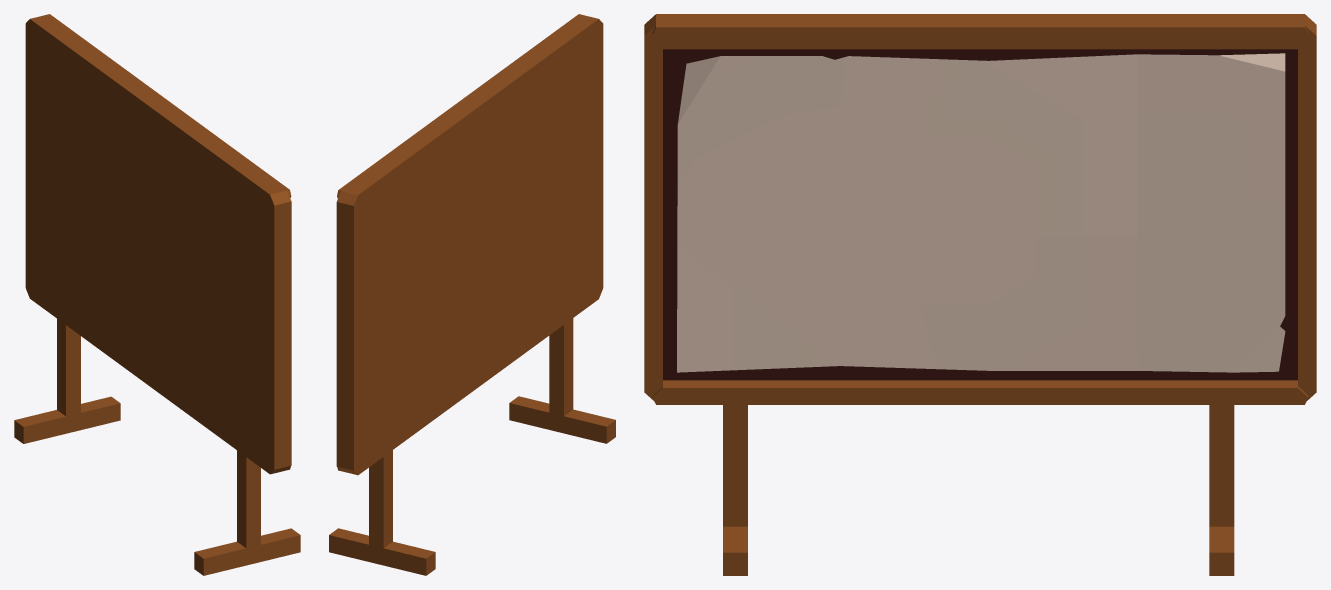
Rendered from BOARD_Empty.fbx.
3 renders of one model, left to right at view 1: azimuth 30°, elevation 25°; view 2: azimuth 150°, elevation 25°; view 3: azimuth 270°, elevation 25°, orthographic. The views are drawn at different scales.
Parts seen in each view (by area): view 1: Board; view 2: Board; view 3: Board.
Boxes of the visible parts, left/top/right/bottom form: Board: left=14, top=14, right=300, bottom=575; Board: left=329, top=14, right=615, bottom=575; Board: left=644, top=14, right=1316, bottom=575.
Bounding box in the file's own units: 199 × 763 × 884.
